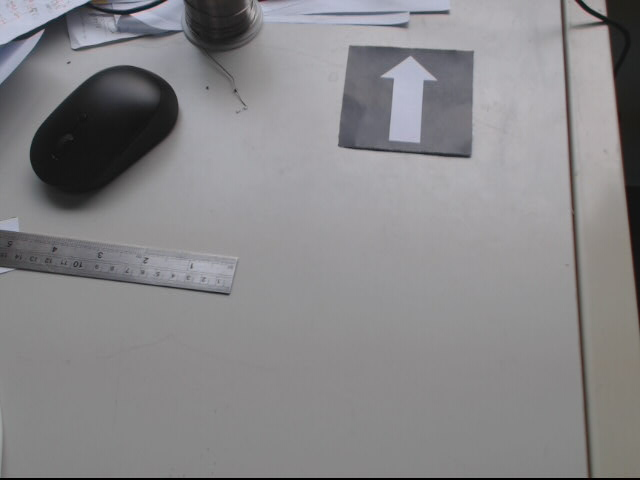straight: (336, 46, 480, 157)
